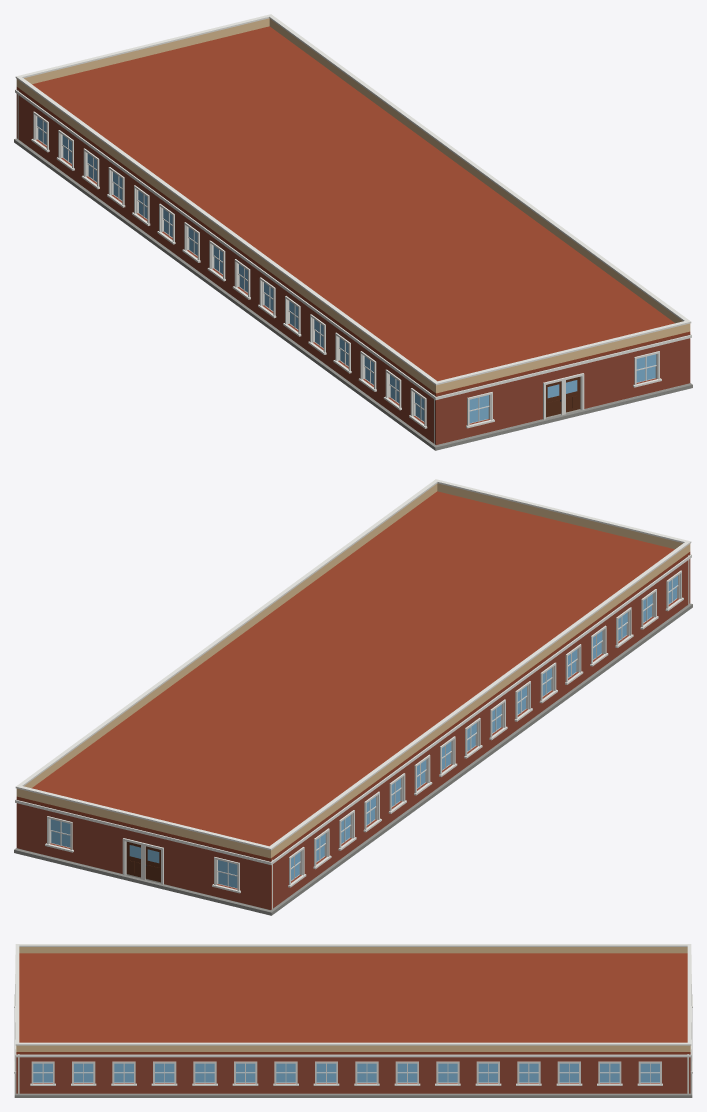
Rendered from SchoolWing.glb.
The picture shows the model from 3 angles, top to bottom: view 1: azimuth 30°, elevation 25°; view 2: azimuth 150°, elevation 25°; view 3: azimuth 270°, elevation 25°; orthographic projection. The views are drawn at different scales.
Parts seen in each view (by area): view 1: SchoolWing_Roof, SchoolWing_Brick, SchoolWing_Trim, SchoolWing_WallsOut, SchoolWing_Foundation, SchoolWing_Glass; view 2: SchoolWing_Roof, SchoolWing_Brick, SchoolWing_Trim, SchoolWing_WallsOut, SchoolWing_Foundation, SchoolWing_Glass; view 3: SchoolWing_Roof, SchoolWing_Brick, SchoolWing_Trim, SchoolWing_WallsOut, SchoolWing_Glass, SchoolWing_Foundation, SchoolWing_Tile, SchoolWing_WallsIn.
Part boxes in pixels (bbox=[...]): SchoolWing_Roof: bbox=[16, 26, 690, 395]; SchoolWing_Brick: bbox=[16, 89, 690, 444]; SchoolWing_Trim: bbox=[15, 14, 691, 428]; SchoolWing_WallsOut: bbox=[16, 18, 690, 393]; SchoolWing_Foundation: bbox=[14, 138, 692, 450]; SchoolWing_Glass: bbox=[37, 117, 656, 410]; SchoolWing_Roof: bbox=[16, 491, 690, 860]; SchoolWing_Brick: bbox=[16, 554, 690, 909]; SchoolWing_Trim: bbox=[15, 479, 691, 893]; SchoolWing_WallsOut: bbox=[16, 483, 690, 858]; SchoolWing_Foundation: bbox=[14, 603, 692, 915]; SchoolWing_Glass: bbox=[50, 575, 677, 875]; SchoolWing_Roof: bbox=[16, 953, 690, 1053]; SchoolWing_Brick: bbox=[16, 1054, 690, 1093]; SchoolWing_Trim: bbox=[14, 944, 692, 1085]; SchoolWing_WallsOut: bbox=[16, 947, 690, 1051]; SchoolWing_Glass: bbox=[33, 1063, 659, 1072]; SchoolWing_Foundation: bbox=[14, 994, 692, 1097]; SchoolWing_Tile: bbox=[18, 1093, 688, 1093]; SchoolWing_WallsIn: bbox=[18, 1054, 688, 1093].
Size of the model in its own units: 71.3 by 17.4 by 201.
